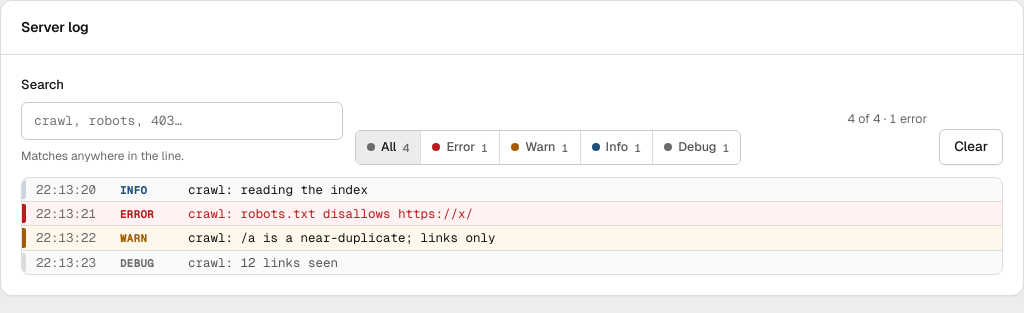
Test: LogsPage › filters by text
Type "links" into the field labelled "Search" at (182, 120), box [21,102,343,140]
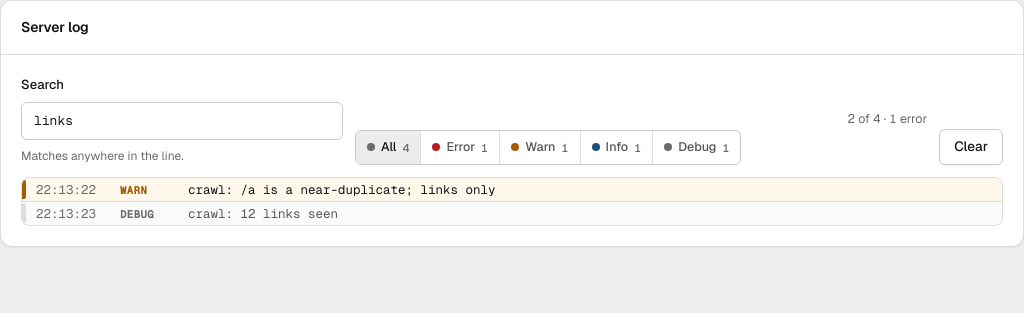
Expected: the text "crawl: 12 links seen" is shown, [188,205,338,222]
Expected: the text "robots.txt disallows" is gone
